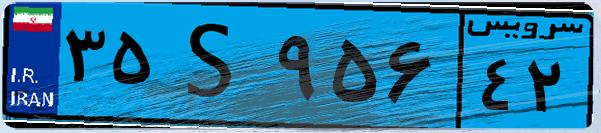2: (525, 38, 570, 115)
3: (57, 26, 110, 100)
4: (475, 38, 525, 113)
5: (330, 28, 385, 110), (110, 28, 158, 98)
6: (385, 28, 445, 110)
9: (270, 28, 330, 110)
S: (158, 12, 270, 120)
